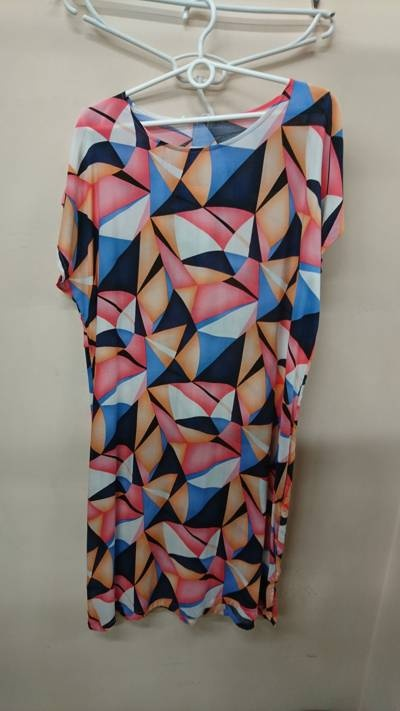Dress: (28, 54, 363, 650)
